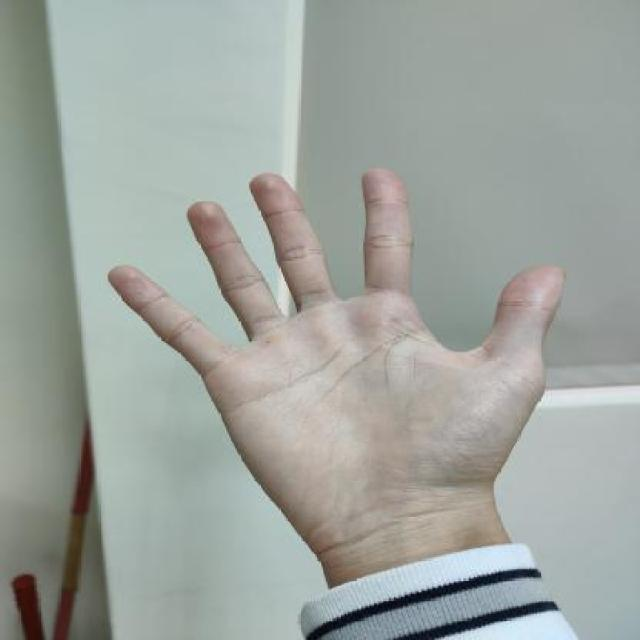bare_hand: (102, 150, 578, 592)
